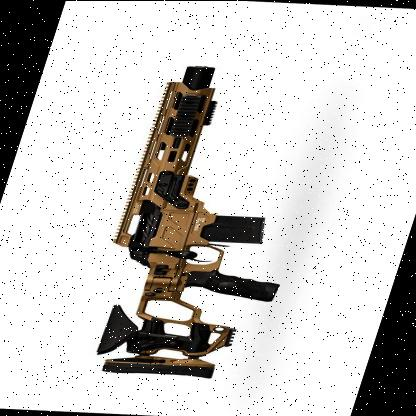rifle: (57, 62, 370, 382)
